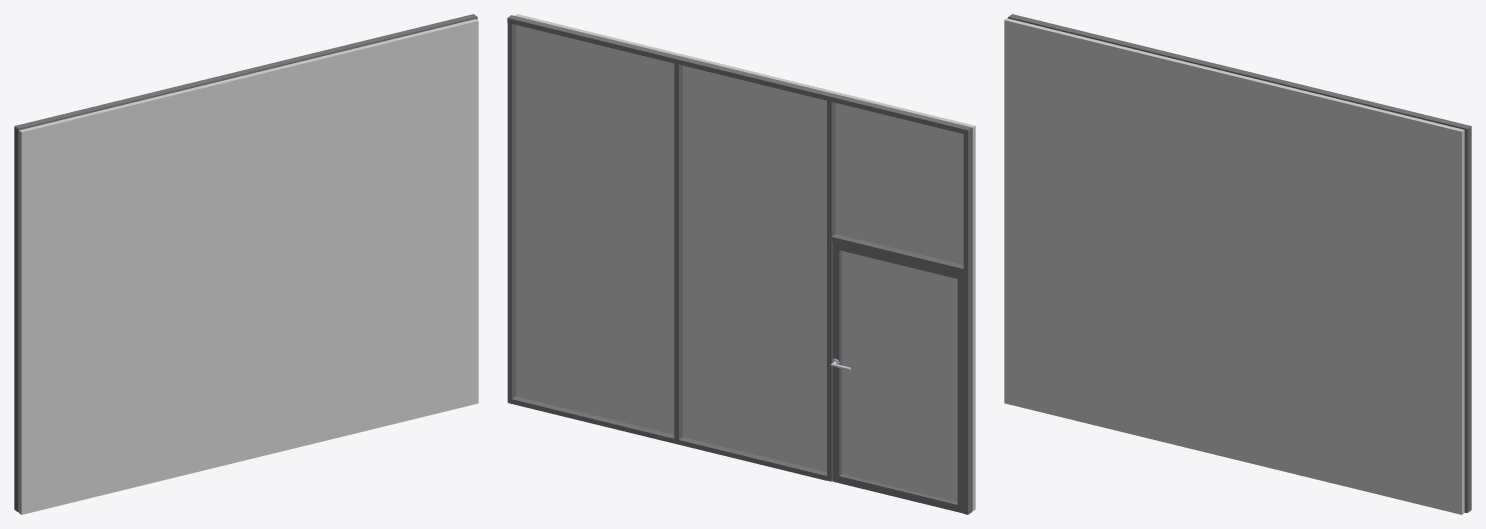
The model's file is ShockGlassWall.glb.
The picture shows the model from 3 angles, left to right: view 1: azimuth 30°, elevation 25°; view 2: azimuth 150°, elevation 25°; view 3: azimuth 330°, elevation 25°; orthographic projection.
Parts seen in each view (by area): view 1: Glass, Box 2, Box 3; view 2: Glass, Box 2, Box 3, Box 4, Box 1, Box 11, Box 5, Box 8, Box 7, Box 6, Box 9, Box 10; view 3: Glass, Box 1, Box 2.
Part boxes in pixels (x1,y1,x2,y2): Glass: [19, 19, 478, 514]; Box 2: [14, 14, 477, 130]; Box 3: [14, 127, 22, 512]; Glass: [515, 14, 975, 511]; Box 2: [507, 15, 971, 134]; Box 3: [963, 128, 971, 514]; Box 4: [674, 59, 682, 444]; Box 1: [507, 19, 515, 403]; Box 11: [508, 396, 826, 480]; Box 5: [827, 98, 835, 481]; Box 8: [832, 242, 841, 482]; Box 7: [957, 272, 963, 512]; Box 6: [830, 234, 967, 274]; Box 9: [834, 474, 963, 513]; Box 10: [838, 243, 963, 279]; Glass: [1004, 18, 1464, 514]; Box 1: [1464, 129, 1471, 512]; Box 2: [1008, 14, 1471, 133].
Bounding box in the file's own units: 1.01 × 0.8025 × 0.0411.
Materials: 28 (1 with a texture image).
